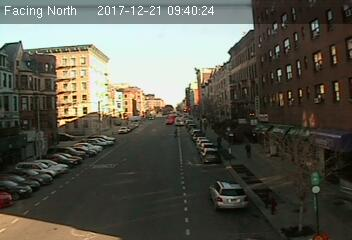car: (208, 178, 246, 208)
truck: (200, 147, 221, 163)
